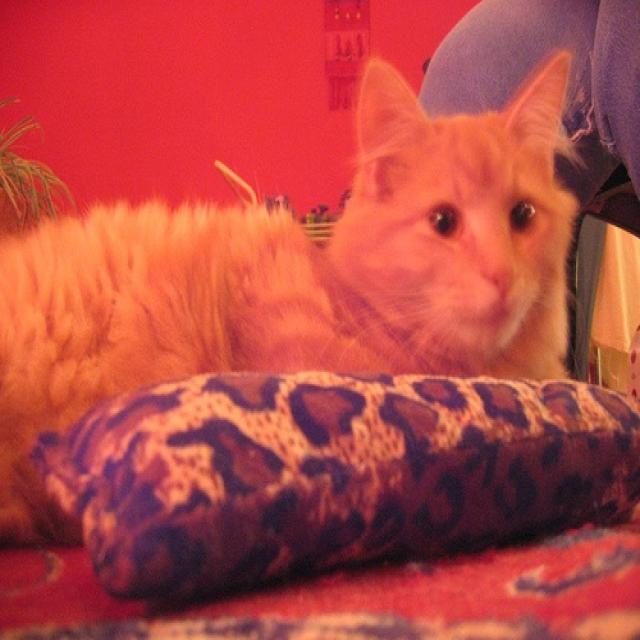cat: (1, 56, 588, 543)
